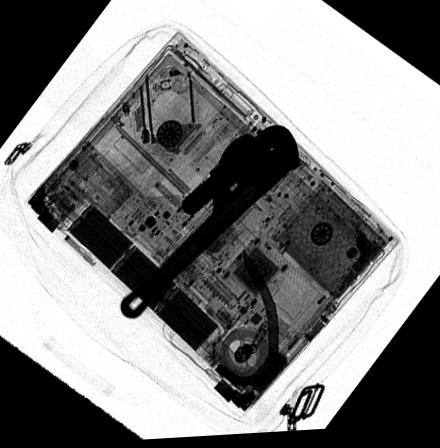Wrench: (117, 126, 303, 321)
